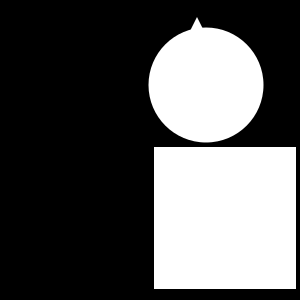circle: (154, 147, 296, 289), (180, 106, 192, 118)
rectangle: (148, 27, 264, 142)
triangle: (163, 29, 235, 101), (176, 17, 218, 59)
